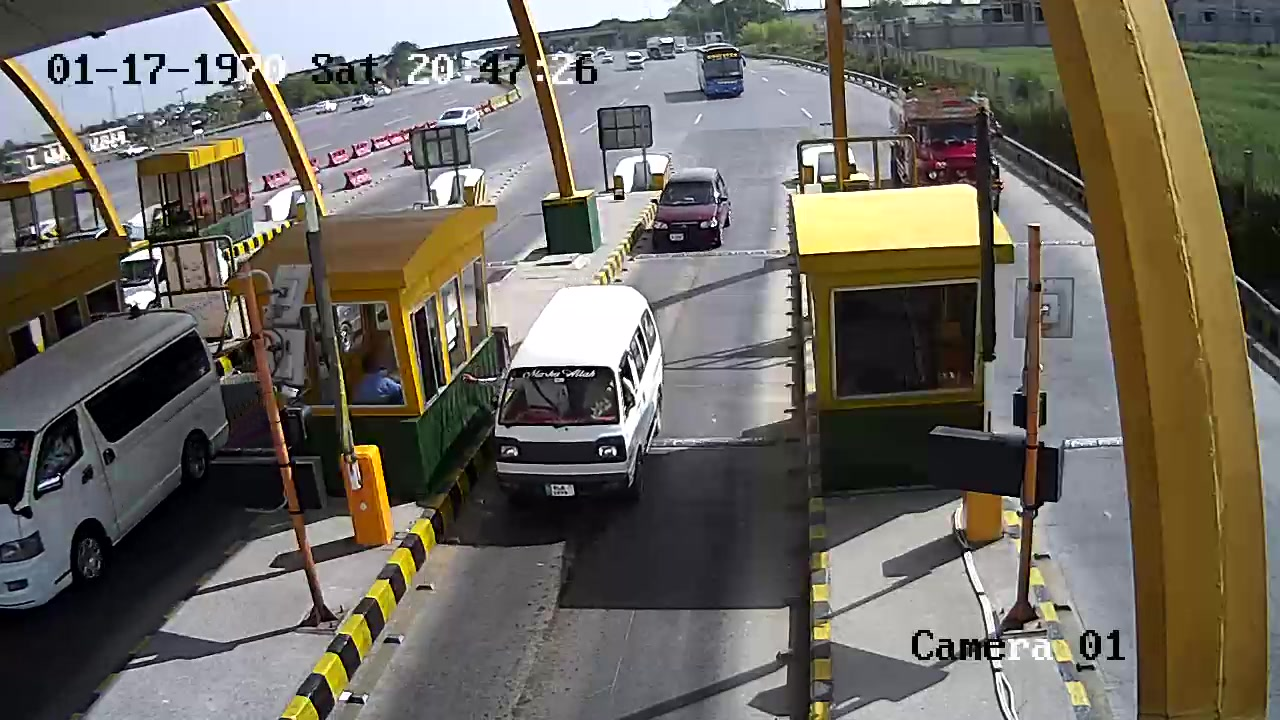F1: (488, 272, 669, 512)
